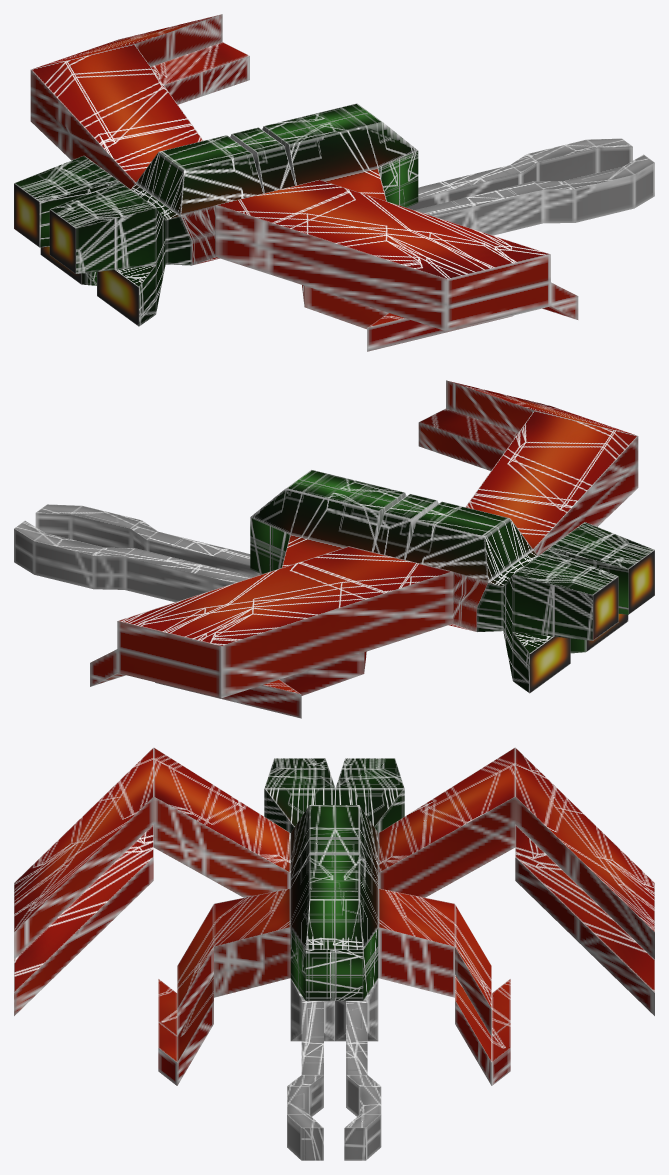
Rendered from Wasp Ship.fbx.
3 views of the same model, one above another, from view 1: azimuth 30°, elevation 25°; view 2: azimuth 150°, elevation 25°; view 3: azimuth 270°, elevation 25° (orthographic). The views are drawn at different scales.
Visible parts, largest first — view 1: Wasp_Ship; view 2: Wasp_Ship; view 3: Wasp_Ship.
Boxes of the visible parts, box(x1,y1,x2,y2) form: Wasp_Ship: box(14, 14, 654, 351); Wasp_Ship: box(14, 380, 654, 718); Wasp_Ship: box(14, 747, 654, 1160).
Bounding box in the file's own units: 7.62 × 2.3 × 7.3.
